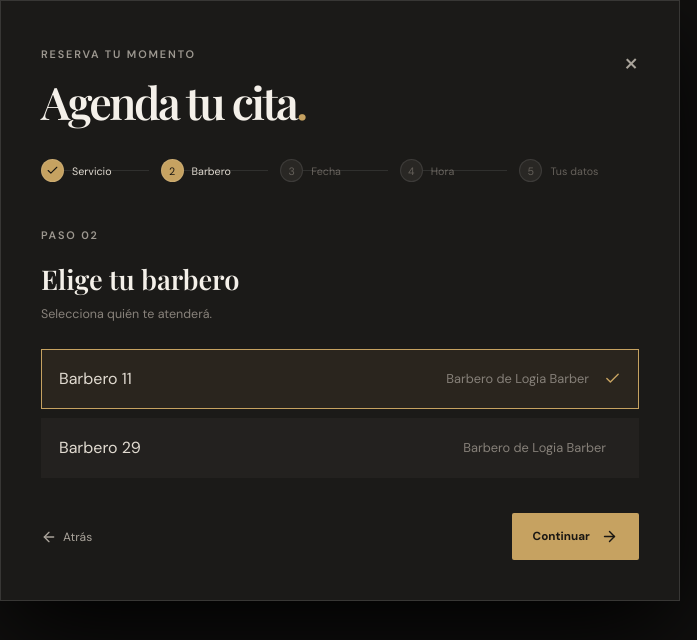
it: changing date invalidates results and selection
Click the button "Continuar".
click(575, 537)  # box [512,513,639,560]
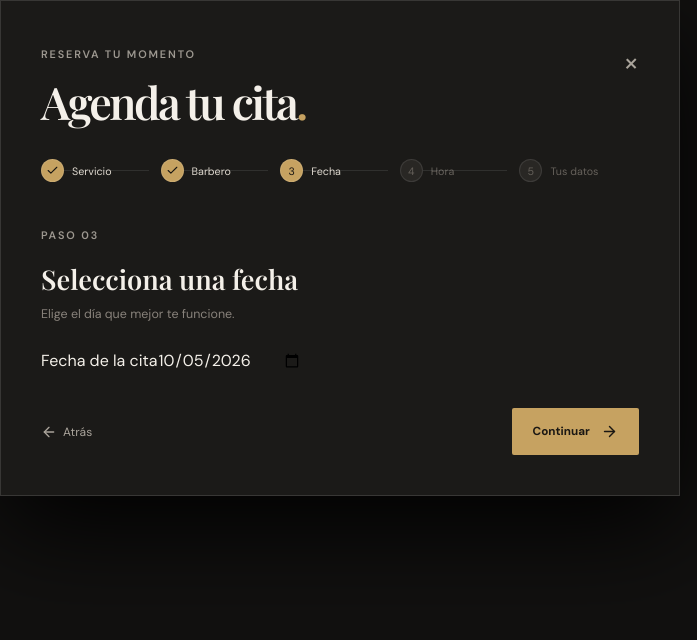
Click the button "Continuar".
click(575, 432)  # box [512,408,639,455]
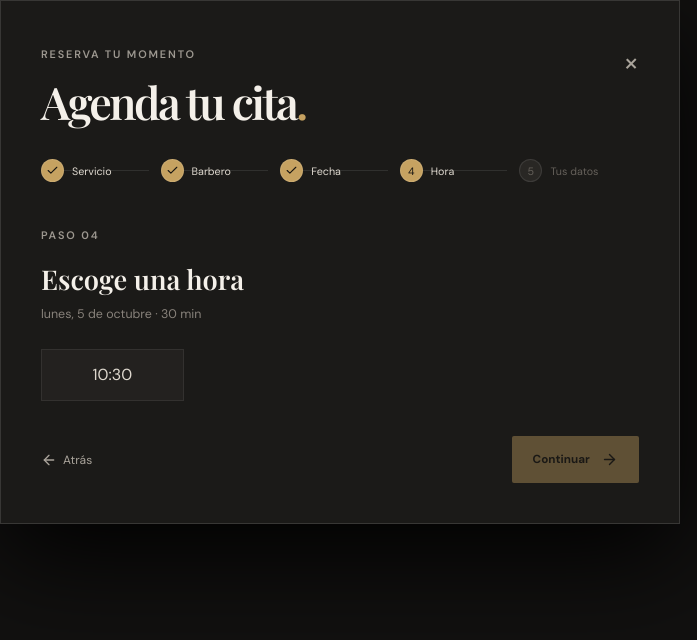
Click the button "10:30".
click(112, 375)  # box [41,349,184,401]
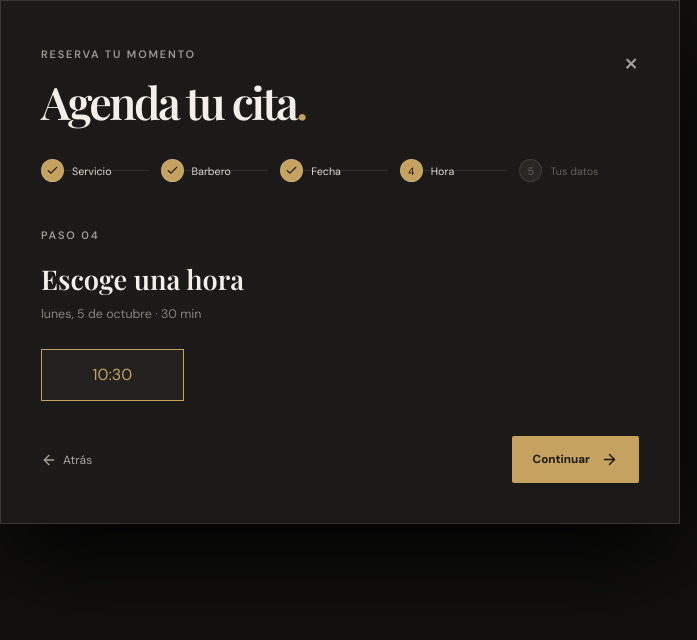
Result: the button "Continuar" is enabled at [512,436,639,483]
Click the button "Atrás".
click(67, 460)  # box [41,451,92,469]
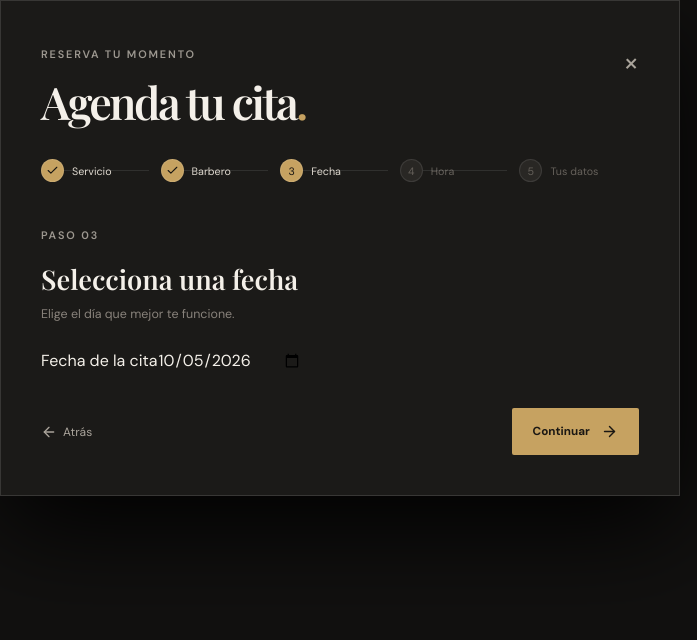
Type "2026-10-06" into the date field labelled "Fecha de la cita".
click(230, 361); type("2026-10-06")  # box [158,349,302,373]
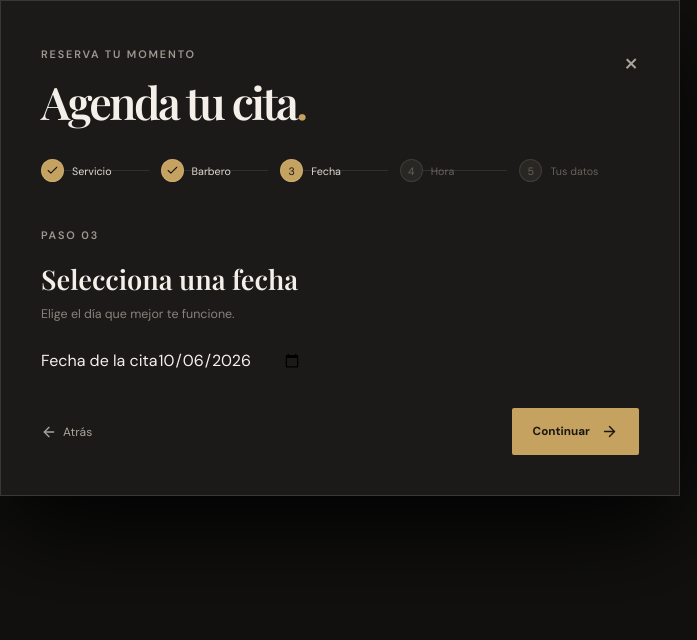
Click the button "Continuar".
click(575, 432)  # box [512,408,639,455]
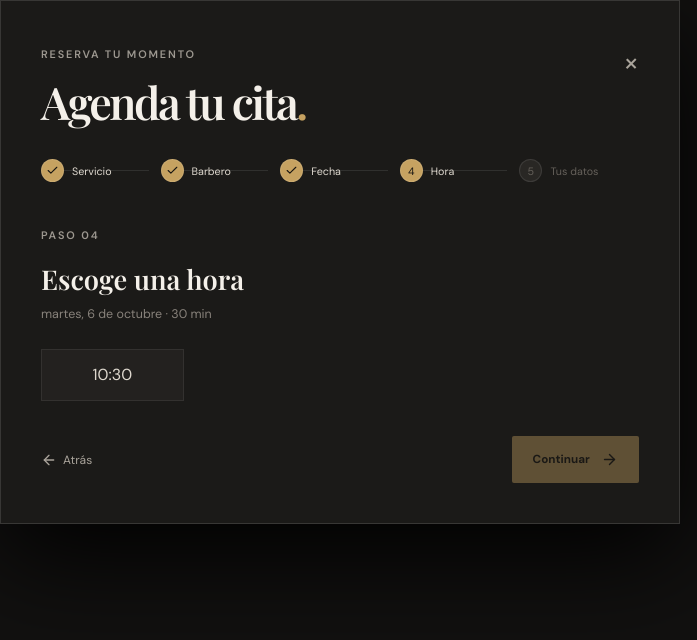
Result: the button named "Cargando" is disabled at [512,436,639,483]
Result: the button "Continuar" is disabled at [512,436,639,483]
